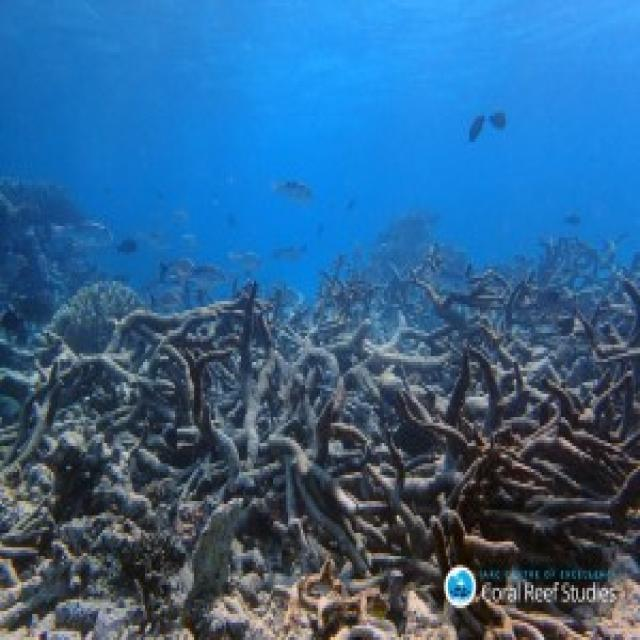Bleached: (1, 305, 306, 640)
Healthy: (436, 394, 640, 554)
